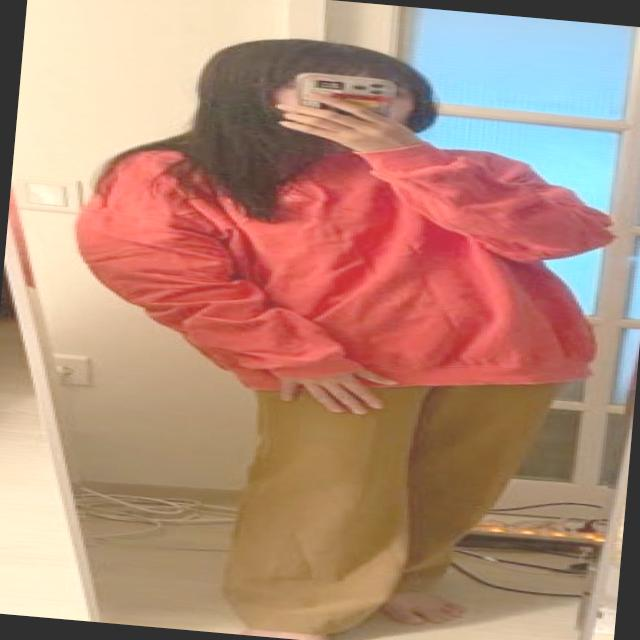cottonpants: (218, 350, 559, 640)
mtm: (57, 106, 626, 418)
